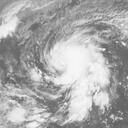cyclone: (40, 29, 115, 120)
